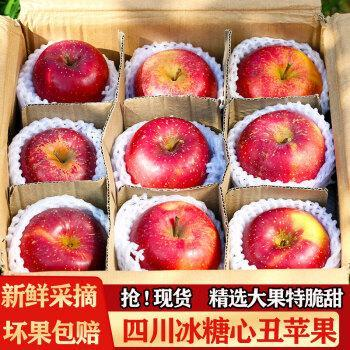apple: (228, 104, 327, 185), (115, 115, 211, 189), (130, 200, 228, 270), (227, 202, 330, 268), (228, 39, 323, 102), (18, 207, 106, 272), (30, 39, 110, 105), (129, 42, 219, 99), (14, 122, 98, 183)
